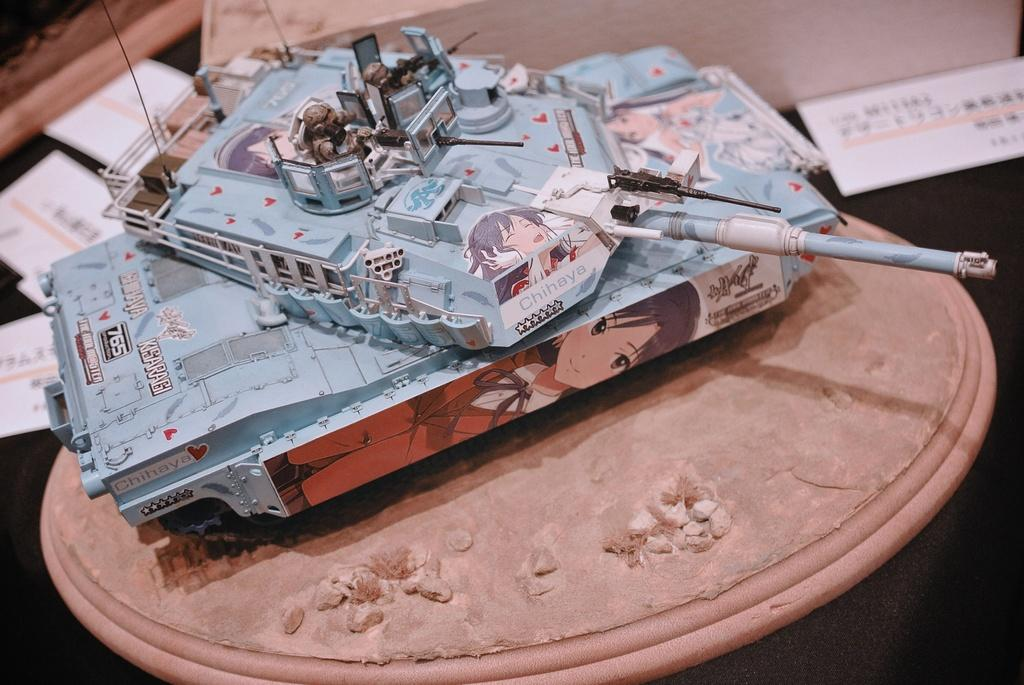Tank: (38, 0, 998, 546)
